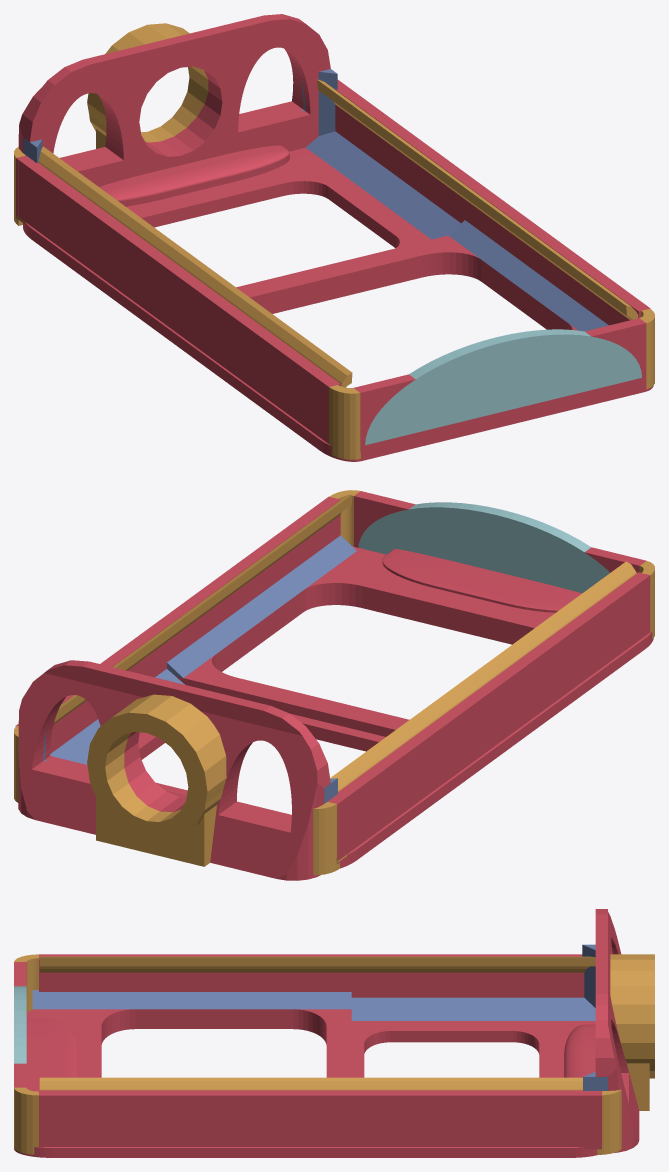
Rendered from ranger-cover.glb.
3 views of the same model, one above another, from view 1: azimuth 30°, elevation 25°; view 2: azimuth 150°, elevation 25°; view 3: azimuth 270°, elevation 25° (orthographic). The views are drawn at different scales.
Parts seen in each view (by area): view 1: Mesh_Mesh_head_geo.001_lambert2SG.001; view 2: Mesh_Mesh_head_geo.001_lambert2SG.001; view 3: Mesh_Mesh_head_geo.001_lambert2SG.001.
Boxes of the visible parts, x1,y1,x2,y2 form: Mesh_Mesh_head_geo.001_lambert2SG.001: (14,14,654,461); Mesh_Mesh_head_geo.001_lambert2SG.001: (14,490,654,880); Mesh_Mesh_head_geo.001_lambert2SG.001: (14,909,654,1157).
Size of the model in its own units: 54 by 23.5 by 103.
